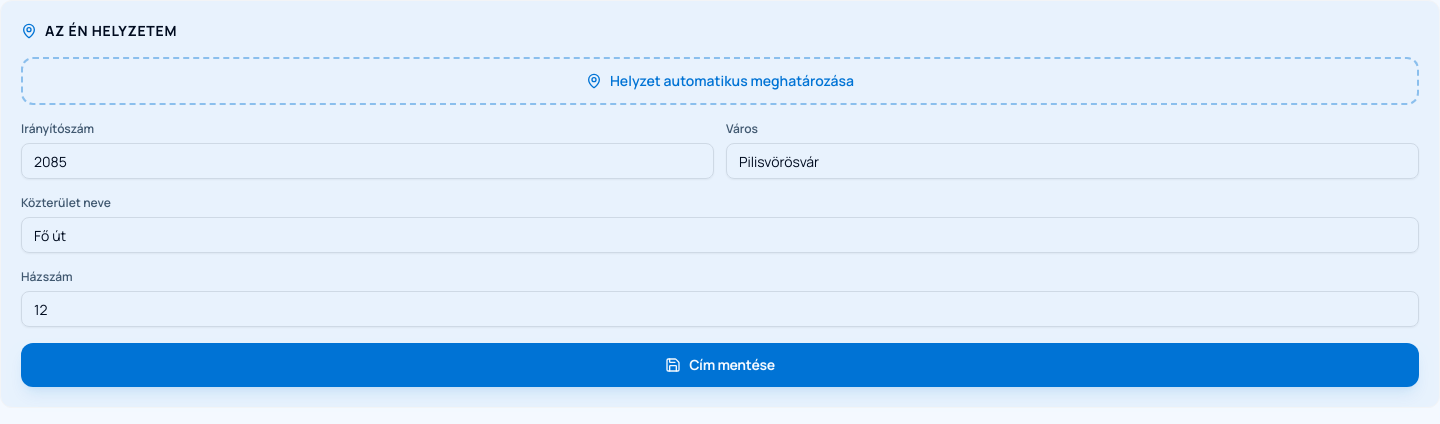
Test: ProLocationSection – GPS detection › fills address fields after GPS detection via reverseGeocode
The image size is (1440, 424).
Expected: the field labelled "Város" holds "Pilisvörösvár", [726,143,1419,179]
Step 1. Click the button "Helyzet automatikus meghatározása" → (720,81), box [21,57,1419,105]
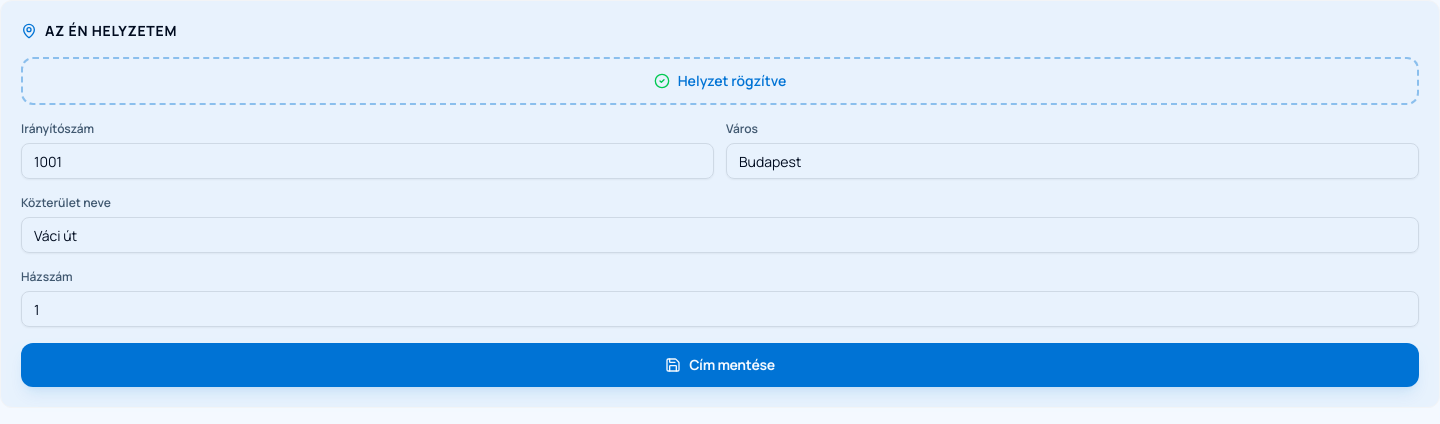
Now the field labelled "Város" holds "Budapest", box [726,143,1419,179]
